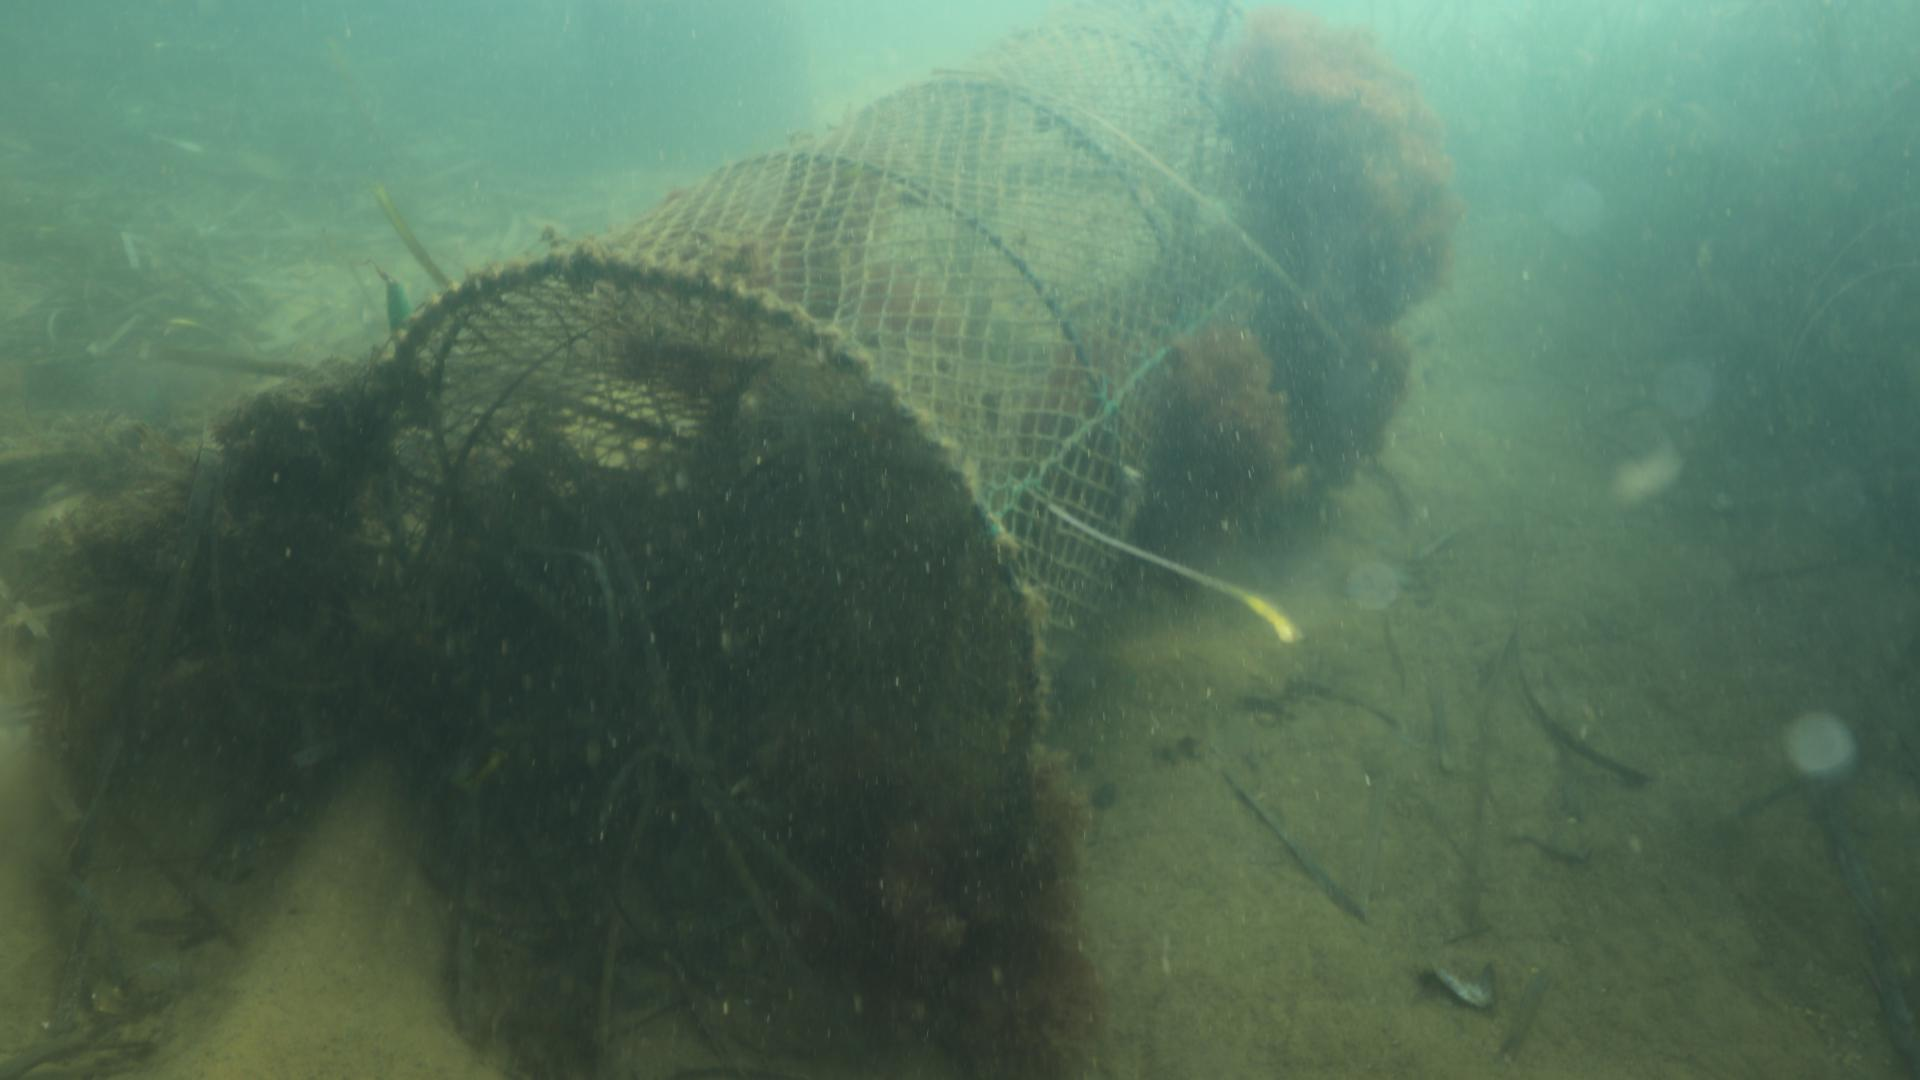spring fish trap: (377, 1, 1317, 940)
